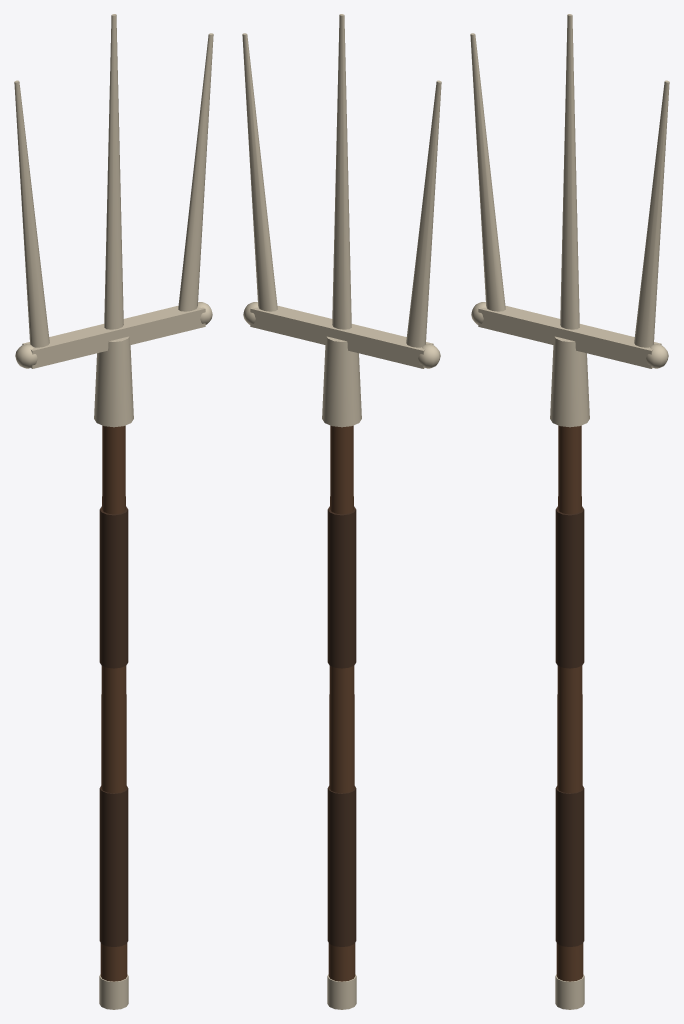
The model's file is trident.glb.
3 renders of one model, left to right at view 1: azimuth 30°, elevation 25°; view 2: azimuth 150°, elevation 25°; view 3: azimuth 330°, elevation 25°, orthographic.
Parts seen in each view (by area): view 1: WeaponDrawn; view 2: WeaponDrawn; view 3: WeaponDrawn.
Boxes of the visible parts, bbox=[...] form: WeaponDrawn: bbox=[14, 14, 213, 1009]; WeaponDrawn: bbox=[242, 14, 441, 1009]; WeaponDrawn: bbox=[470, 14, 669, 1009].
Size of the model in its own units: 0.2985 by 1.42 by 0.052.
